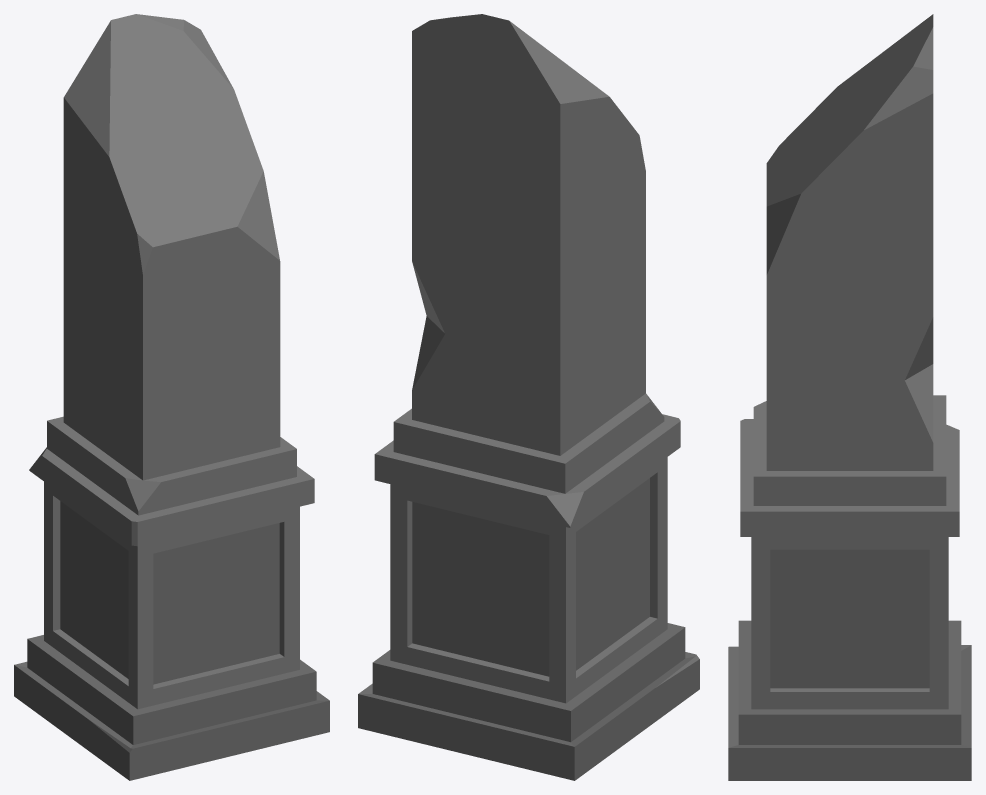
The model's file is Ruins_04.fbx.
The picture shows the model from 3 angles, left to right: view 1: azimuth 30°, elevation 25°; view 2: azimuth 150°, elevation 25°; view 3: azimuth 270°, elevation 25°; orthographic projection. The views are drawn at different scales.
Parts seen in each view (by area): view 1: Ruins_04_LOD0; view 2: Ruins_04_LOD0; view 3: Ruins_04_LOD0.
Part boxes in pixels (x1,y1,x2,y2): Ruins_04_LOD0: (14, 14, 329, 780); Ruins_04_LOD0: (358, 14, 699, 780); Ruins_04_LOD0: (728, 14, 971, 780).
Size of what is drawn, in the model's own units: 0.5369 by 1.72 by 0.5369.
